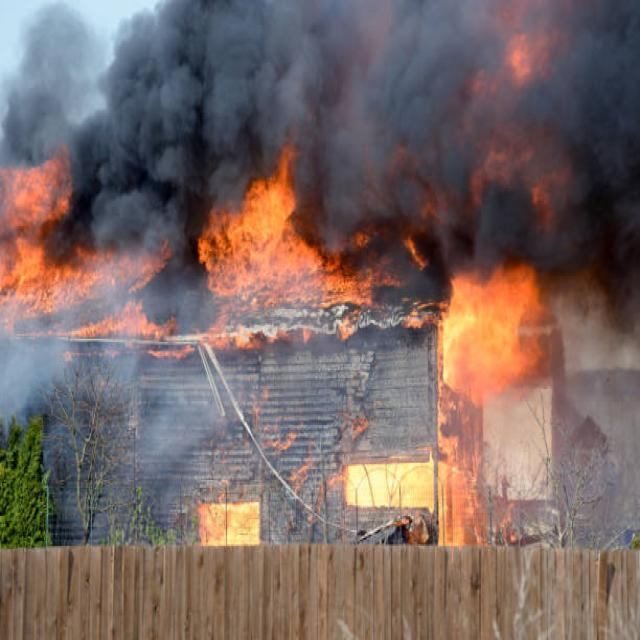Fire: (200, 176, 324, 312), (443, 260, 552, 410), (0, 165, 103, 311), (446, 397, 485, 538)
Smoke: (0, 0, 640, 304)
